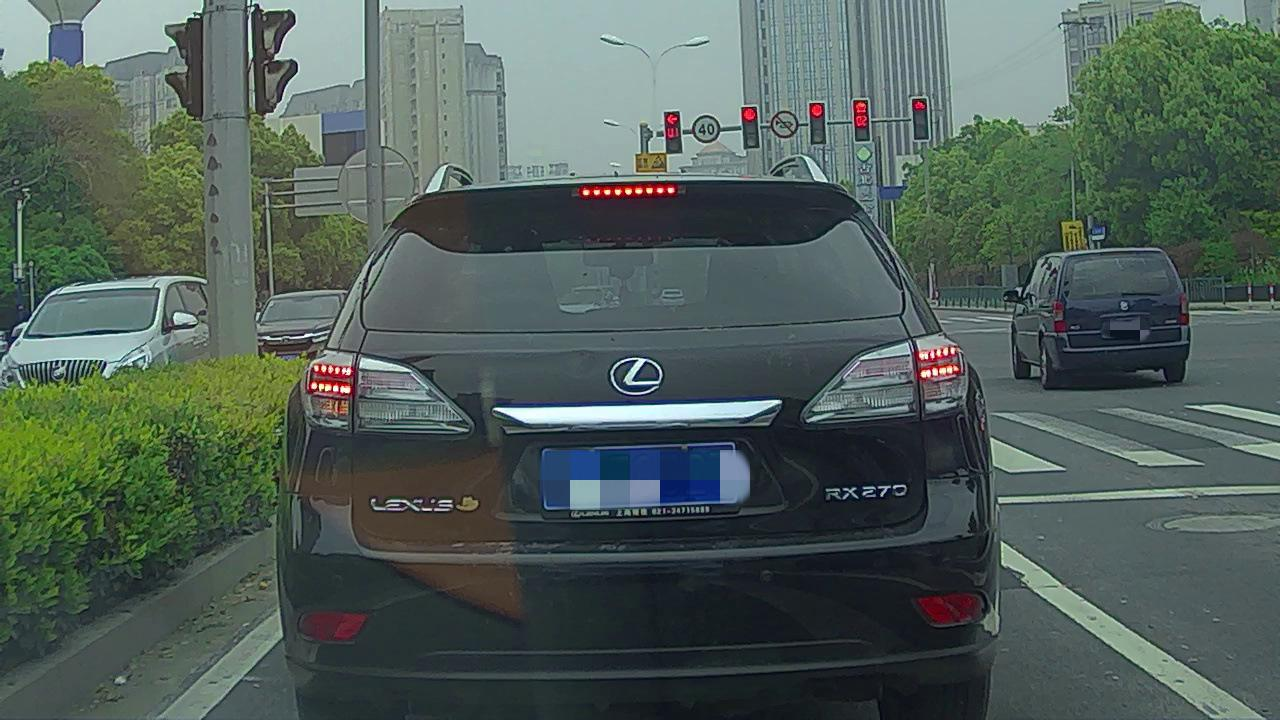traffic_light: (807, 101, 827, 144), (664, 109, 682, 154), (853, 98, 871, 143), (913, 97, 930, 140), (742, 107, 759, 148)
